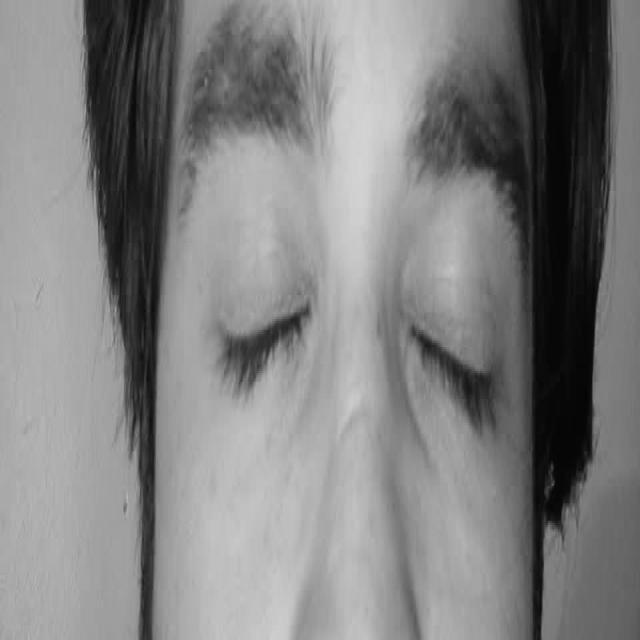real: (196, 204, 526, 460)
